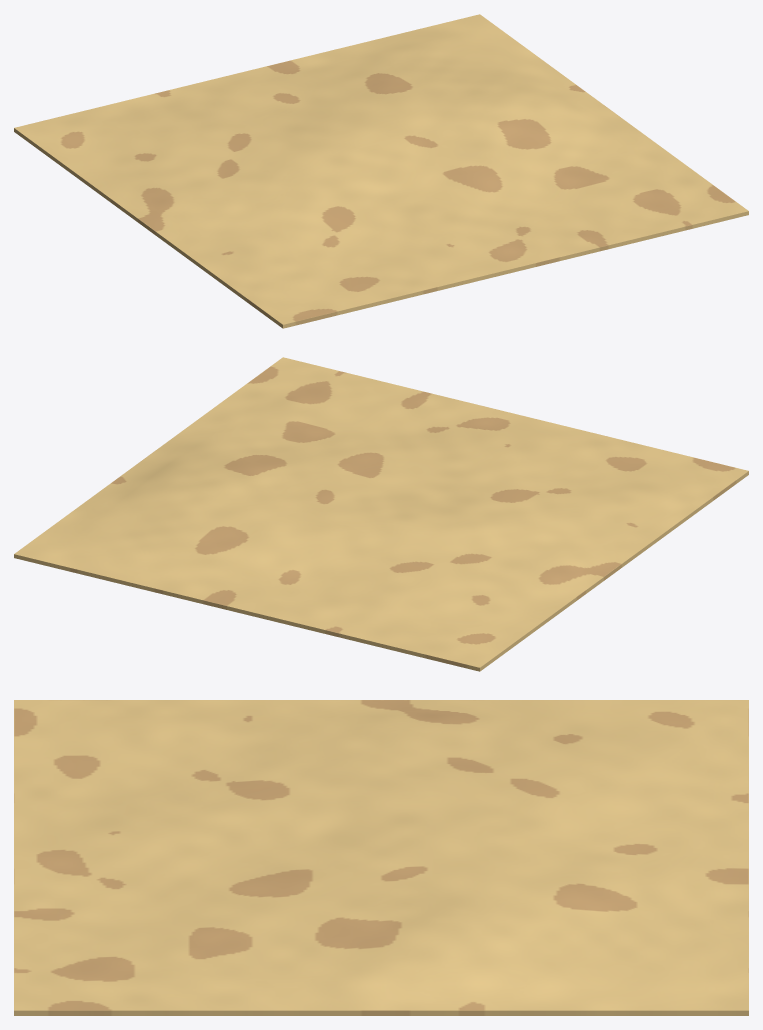
File: Desert_Flat_02.obj
The picture shows the model from 3 angles, top to bottom: view 1: azimuth 30°, elevation 25°; view 2: azimuth 150°, elevation 25°; view 3: azimuth 270°, elevation 25°; orthographic projection. The views are drawn at different scales.
Size of the model in its own units: 10 by 0.3641 by 10.
1 material, 1 textured.
